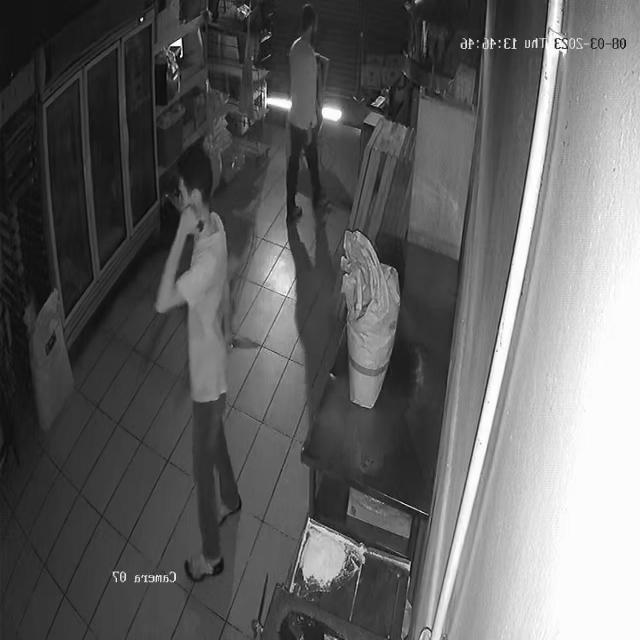Knife: (228, 322, 262, 363)
